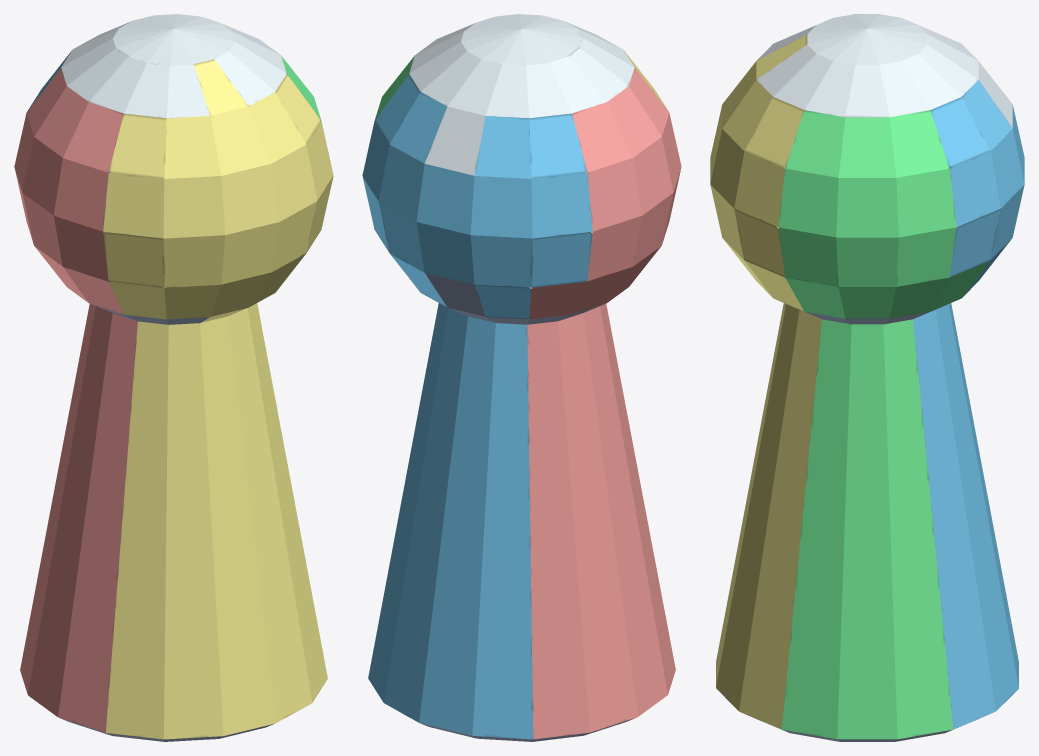
File: patient.obj
3 renders of one model, left to right at view 1: azimuth 30°, elevation 25°; view 2: azimuth 150°, elevation 25°; view 3: azimuth 270°, elevation 25°, orthographic.
Visible parts, largest first — view 1: cylinder, sphere; view 2: cylinder, sphere; view 3: cylinder, sphere.
Part boxes in pixels (box(x1,y1,x2,y2)): cylinder: box(20, 287, 327, 741); sphere: box(14, 14, 333, 324); cylinder: box(368, 287, 675, 741); sphere: box(362, 14, 681, 324); cylinder: box(716, 303, 1018, 741); sphere: box(710, 14, 1024, 324).
Size of the model in its own units: 3.5 by 8.05 by 3.5.
Materials: 1 (1 with a texture image).
